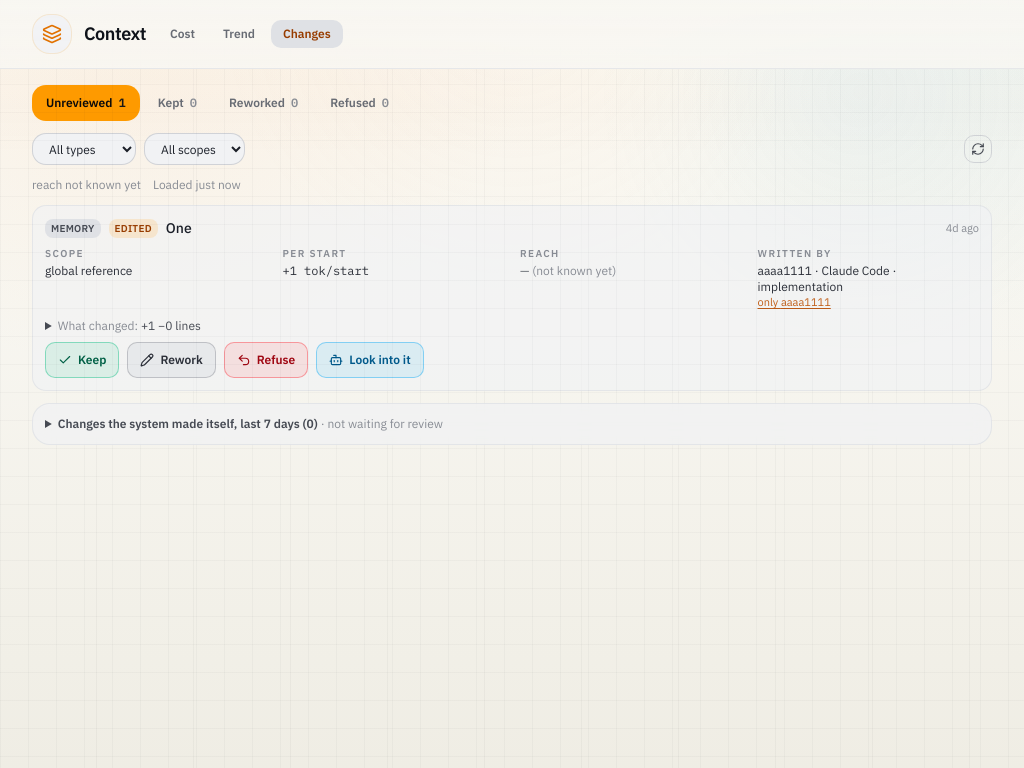
Changes page › on 409 for a row still waiting, reloads and shows the new diff
Step 1. Click the button with aria-label "Refuse One" → [266, 360], box [224,342,308,378]
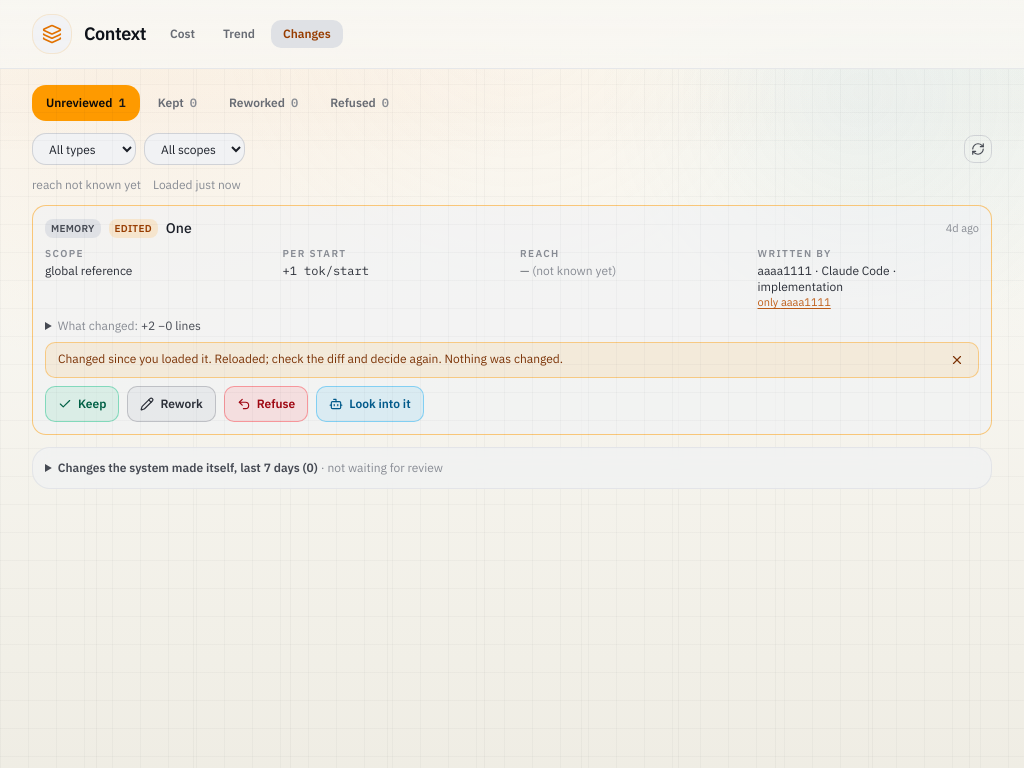
expect the button with aria-label "Keep One" is enabled: met, box [45,386,119,422]
expect the text "Changed since you loaded it. Reloaded" is shown: met, box [58,351,563,366]
